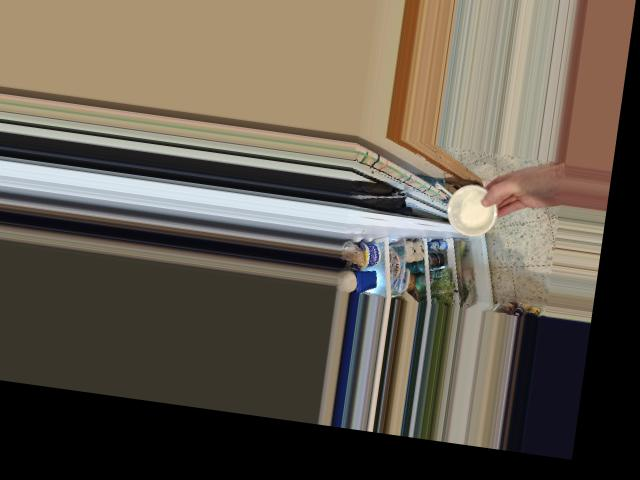cotage: (448, 179, 503, 232)
